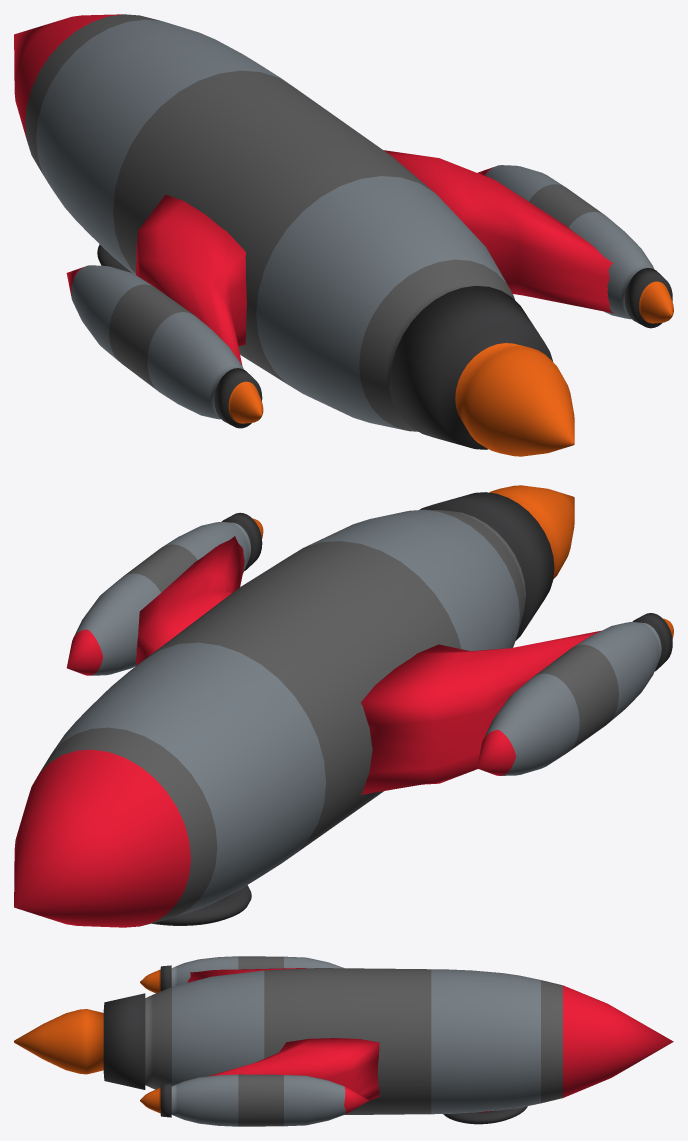
Rendered from Rocketship11.fbx.
3 renders of one model, top to bottom at view 1: azimuth 30°, elevation 25°; view 2: azimuth 150°, elevation 25°; view 3: azimuth 270°, elevation 25°, orthographic. The views are drawn at different scales.
Visible parts, largest first — view 1: Cone; view 2: Cone; view 3: Cone.
Boxes of the visible parts, bbox=[...] form: Cone: bbox=[14, 14, 673, 456]; Cone: bbox=[14, 485, 673, 927]; Cone: bbox=[14, 956, 673, 1126].
Bounding box in the file's own units: 0.3862 × 0.1789 × 0.7932.
